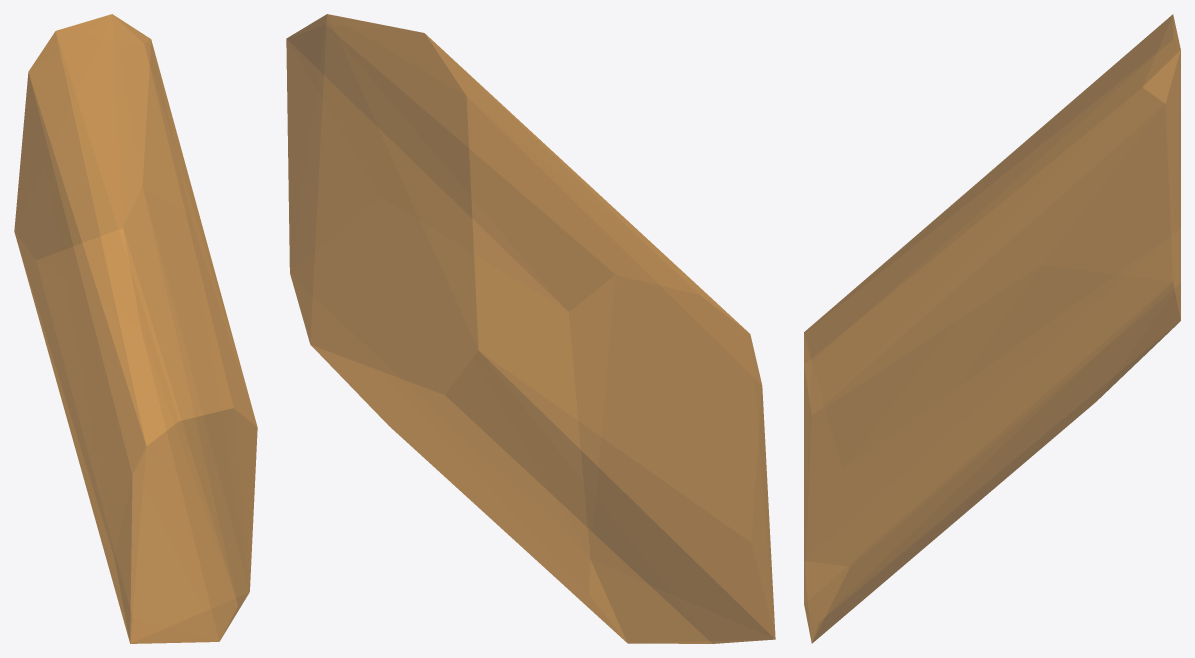
3 views of the same model, side by side, from view 1: azimuth 30°, elevation 25°; view 2: azimuth 150°, elevation 25°; view 3: azimuth 270°, elevation 25° (orthographic). The views are drawn at different scales.
Visible parts, largest first — view 1: Shape_IndexedFaceSet.011_Shape_IndexedFaceSet.16462; view 2: Shape_IndexedFaceSet.011_Shape_IndexedFaceSet.16462; view 3: Shape_IndexedFaceSet.011_Shape_IndexedFaceSet.16462.
Boxes of the visible parts, <box> form: Shape_IndexedFaceSet.011_Shape_IndexedFaceSet.16462: <box>14,14,257,643</box>; Shape_IndexedFaceSet.011_Shape_IndexedFaceSet.16462: <box>286,14,775,643</box>; Shape_IndexedFaceSet.011_Shape_IndexedFaceSet.16462: <box>804,14,1180,643</box>.
Size of the model in its own units: 0.0707 by 0.2029 by 0.1117.
